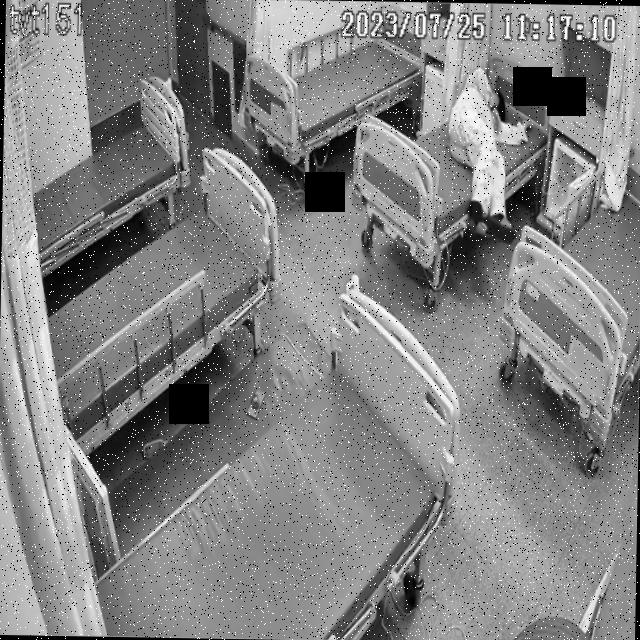bed: (93, 294, 453, 640), (40, 149, 279, 447), (502, 145, 640, 440), (350, 62, 549, 246), (29, 74, 191, 274), (247, 15, 422, 164)
danger: (448, 62, 526, 234)
patient: (448, 64, 526, 232)
